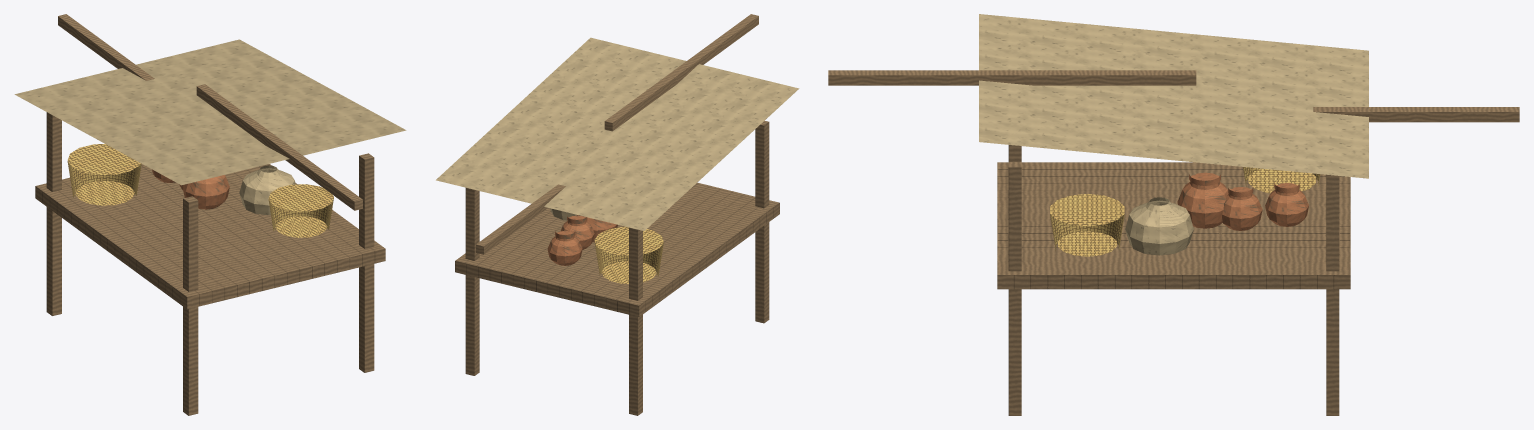
Rendered from stall.glb.
3 renders of one model, left to right at view 1: azimuth 30°, elevation 25°; view 2: azimuth 150°, elevation 25°; view 3: azimuth 270°, elevation 25°, orthographic. The views are drawn at different scales.
Parts seen in each view (by area): view 1: Stall; view 2: Stall; view 3: Stall.
Part boxes in pixels (x1,y1,x2,y2): Stall: (14,14,406,415); Stall: (436,14,799,415); Stall: (828,14,1519,415).
Size of the model in its own units: 2.1 by 2.22 by 4.79.
5 materials, 5 textured.
